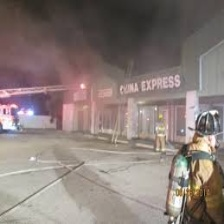smoke: (54, 50, 123, 123)
